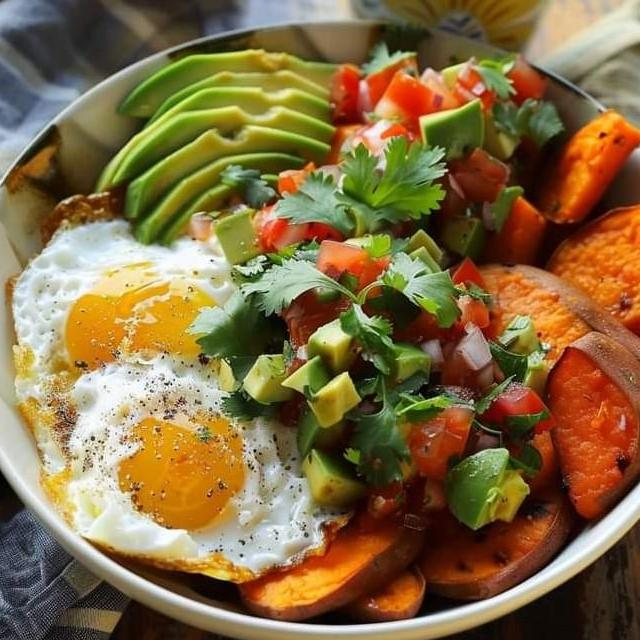trung: (7, 343, 359, 588), (0, 184, 260, 419)
